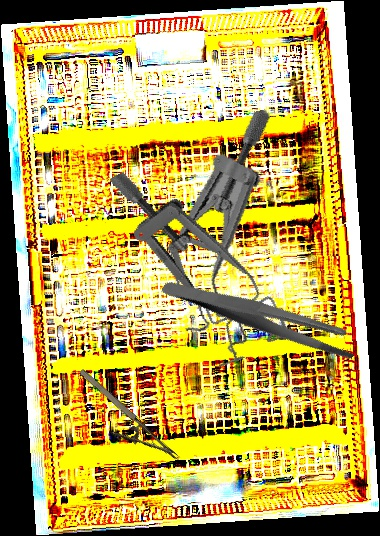Dressing Forceps: (160, 233, 363, 400)
Needle Holder: (64, 366, 181, 480)
Speculum: (133, 107, 328, 367), (107, 137, 291, 378)
